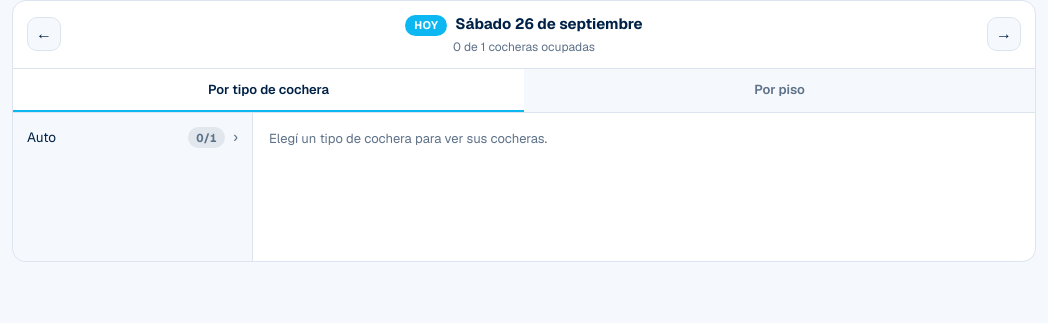
it: OcupacionCocheras: moverse entre días › el día anterior sigue mostrando lo que ya terminó
The image size is (1048, 323).
Expected: the button "Auto 0/1 ›" is shown, [13,113,252,162]
Click the button named "día anterior": (44,34) [27,17,61,51]
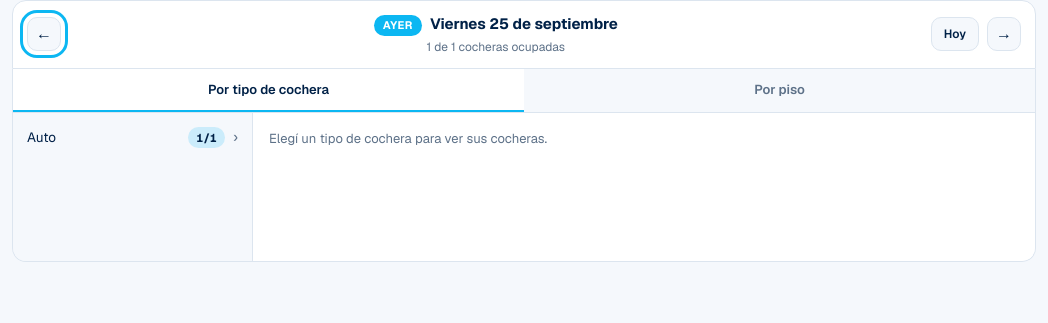
Click the button "Auto 1/1 ›": (132,137) [13,113,252,162]
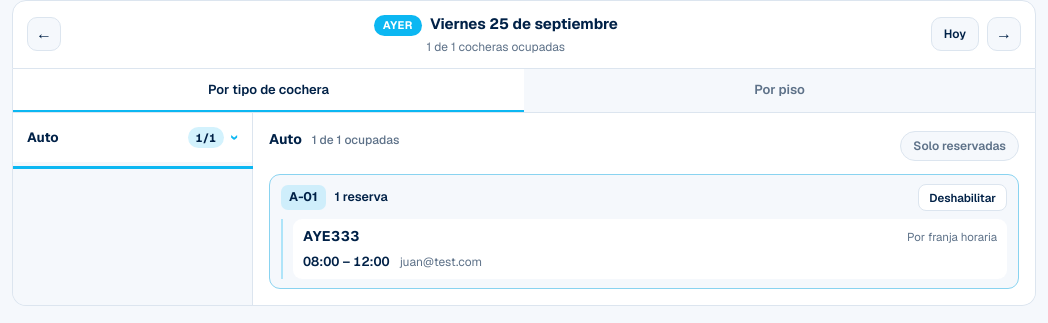
Expected: the text "Ayer" is shown, [374,15,422,36]
Expected: the text "AYE333" is shown, [303,226,360,247]
